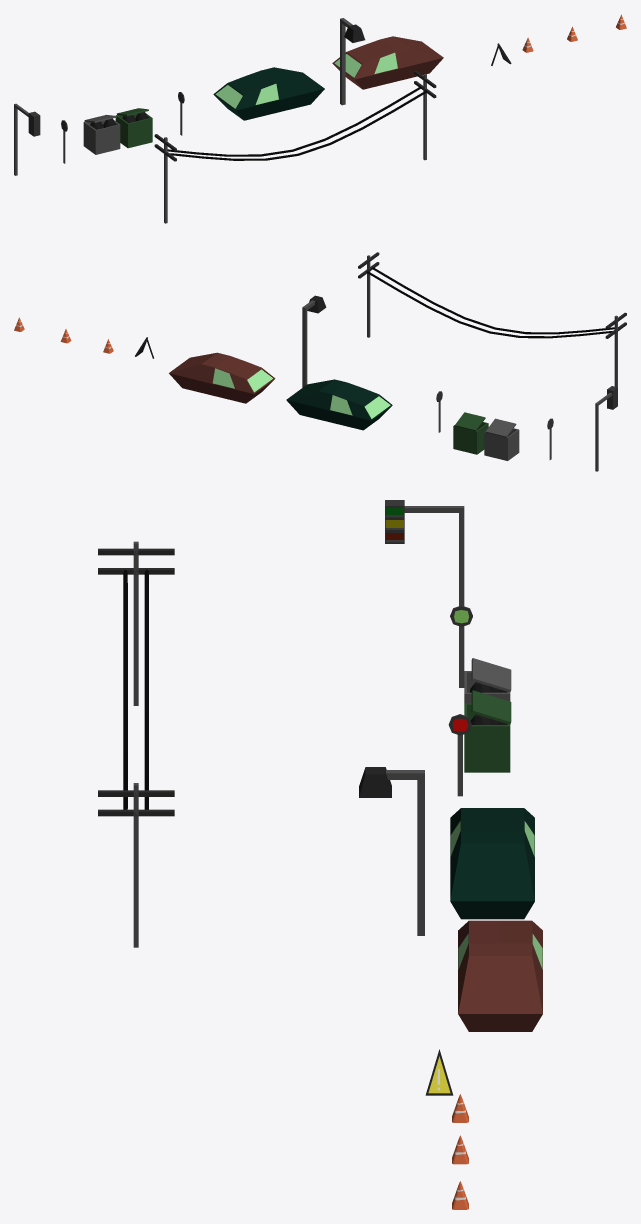
3 renders of one model, top to bottom at view 1: azimuth 30°, elevation 25°; view 2: azimuth 150°, elevation 25°; view 3: azimuth 270°, elevation 25°, orthographic. The views are drawn at different scales.
Visible parts, largest first — view 1: Cube.012, Cube.013, Cube.043, Cube.051, Cube.086, Cube.085, Cube.105, Cube.087, Cube.047; view 2: Cube.013, Cube.012, Cube.043, Cube.051, Cube.085, Cube.086, Cube.105, Cube.050, Cube.052; view 3: Cube.012, Cube.013, Cube.051, Cube.105, Cube.086, Cube.085, Cube.047, Cube.087, Cube.052, Cube.050.
Boxes of the visible parts, x1,y1,x2,y2 form: Cube.012: (213, 67, 324, 120); Cube.013: (332, 36, 443, 89); Cube.043: (83, 120, 120, 154); Cube.051: (115, 113, 152, 148); Cube.086: (170, 90, 427, 160); Cube.085: (167, 86, 421, 156); Cube.105: (340, 22, 345, 105); Cube.087: (164, 137, 167, 223); Cube.047: (423, 74, 426, 160); Cube.013: (169, 352, 275, 403); Cube.012: (286, 379, 392, 430); Cube.043: (484, 428, 519, 460); Cube.051: (453, 422, 488, 454); Cube.085: (367, 271, 612, 338); Cube.086: (372, 267, 614, 334); Cube.105: (302, 307, 307, 387); Cube.050: (485, 418, 516, 437); Cube.052: (455, 412, 485, 431); Cube.012: (450, 808, 534, 919); Cube.013: (458, 920, 542, 1031); Cube.051: (464, 703, 510, 772); Cube.105: (417, 773, 424, 935); Cube.086: (123, 569, 127, 809); Cube.085: (144, 569, 148, 809); Cube.047: (133, 783, 138, 947); Cube.087: (133, 541, 138, 705); Cube.052: (471, 690, 511, 724); Cube.050: (471, 658, 511, 692).
Size of the model in its own units: 7897 by 1127 by 2608.
